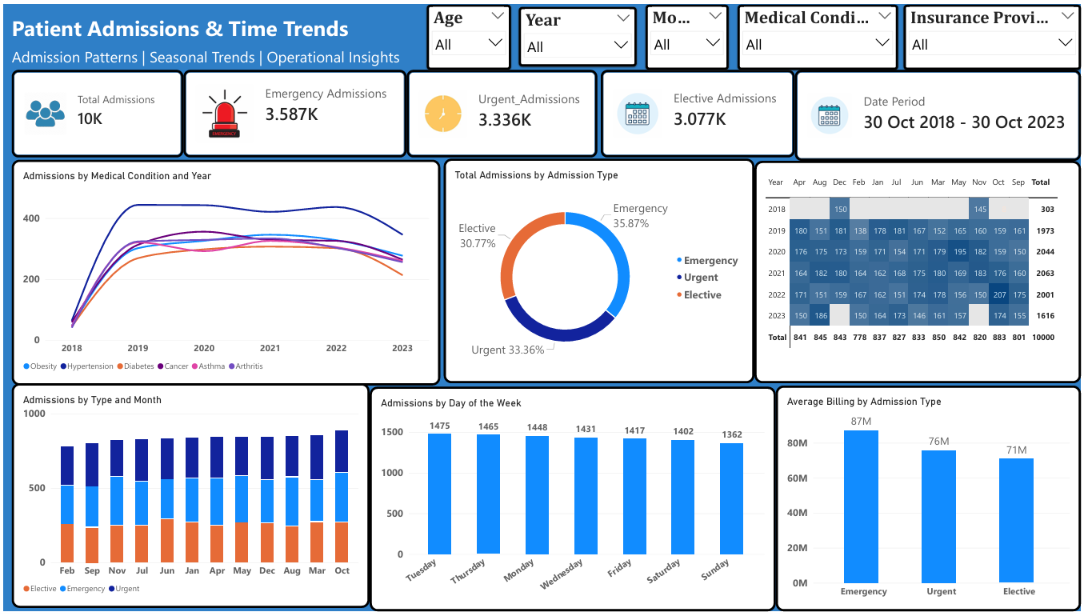

The dashboard page shown, as its layout file describes it:
{"tool":"powerbi","page":{"name":"Patient Admission and Time Trend","canvas":[1920,1080],"ordinal":3},"visuals":[{"type":"cardVisual","fields":{"Data":["Healthcare_Data_v1__1.Total Admissions"]},"box":[14,116,306,156],"z":0},{"type":"cardVisual","fields":{"Data":["Healthcare_Data_v1__1.Urgent_Admissions"]},"box":[718,116,340,156],"z":1000},{"type":"cardVisual","fields":{"Data":["Healthcare_Data_v1__1.Emergency Admissions"]},"box":[320,116,398,156],"z":2000},{"type":"cardVisual","fields":{"Data":["Healthcare_Data_v1__1.Elective Admissions"]},"box":[1064,116,346,156],"z":3000},{"type":"columnChart","title":"Admissions by Type and Month","fields":{"Category":["DateTable.Month"],"Series":["Healthcare_Data_v1__1.Admission Type"],"Y":["Healthcare_Data_v1__1.Total Admissions"]},"box":[14,674,638,400],"z":5000},{"type":"donutChart","fields":{"Category":["Healthcare_Data_v1__1.Admission Type"],"Y":["Healthcare_Data_v1__1.Total Admissions"]},"box":[784,274,554,400],"z":6000},{"type":"clusteredColumnChart","title":"Admissions by Day of the Week","fields":{"Category":["DateTable.Day Name"],"Y":["Healthcare_Data_v1__1.Total Admissions"]},"box":[652,680,724,400],"z":7000},{"type":"pivotTable","fields":{"Columns":["DateTable.Month"],"Rows":["DateTable.Year"],"Values":["Healthcare_Data_v1__1.Total Admissions"]},"box":[1338,278,582,396],"z":8000},{"type":"lineChart","title":"Admissions by Medical Condition and Year","fields":{"Category":["DateTable.Year"],"Series":["Healthcare_Data_v1__1.Medical Condition"],"Y":["Healthcare_Data_v1__1.Total Admissions"]},"box":[14,276,764,402],"z":9000},{"type":"clusteredColumnChart","title":"Average Billing by Admission Type","fields":{"Category":["Healthcare_Data_v1__1.Admission Type"],"Y":["Sum(Healthcare_Data_v1__1. Billing Amount )"]},"box":[1376,678,544,402],"z":10000},{"type":"textbox","box":[14,16,612,58],"z":11000},{"type":"textbox","box":[14,74,704,64],"z":12000},{"type":"slicer","fields":{"Values":["Healthcare_Data_v1__1.Year"]},"box":[918,4,210,106],"z":13000},{"type":"slicer","fields":{"Values":["DateTable.Month"]},"box":[1144,0,148,116],"z":14000},{"type":"slicer","fields":{"Values":["Healthcare_Data_v1__1.Medical Condition"]},"box":[1308,0,286,116],"z":15000},{"type":"slicer","fields":{"Values":["Healthcare_Data_v1__1.Insurance Provider"]},"box":[1604,0,316,116],"z":16000},{"type":"cardVisual","fields":{"Data":["DateTable.Date Period"]},"box":[1410,116,510,162],"z":18000},{"type":"slicer","fields":{"Values":["Healthcare_Data_v1__1.Age Classification"]},"box":[754,0,150,116],"z":18001}]}

Visuals, with their boxes in screenshot pixels (x1, y1, x2, y2), scaled from the page's 1920x1080 canvas onto the 1082x614 screenshot:
cardVisual - Healthcare_Data_v1__1.Total Admissions: [left=8, top=66, right=180, bottom=155]
cardVisual - Healthcare_Data_v1__1.Urgent_Admissions: [left=405, top=66, right=596, bottom=155]
cardVisual - Healthcare_Data_v1__1.Emergency Admissions: [left=180, top=66, right=405, bottom=155]
cardVisual - Healthcare_Data_v1__1.Elective Admissions: [left=600, top=66, right=795, bottom=155]
"Admissions by Type and Month" columnChart: [left=8, top=383, right=367, bottom=611]
donutChart - Healthcare_Data_v1__1.Admission Type x Healthcare_Data_v1__1.Total Admissions: [left=442, top=156, right=754, bottom=383]
"Admissions by Day of the Week" clusteredColumnChart: [left=367, top=387, right=775, bottom=613]
pivotTable - DateTable.Month x DateTable.Year: [left=754, top=158, right=1081, bottom=383]
"Admissions by Medical Condition and Year" lineChart: [left=8, top=157, right=438, bottom=385]
"Average Billing by Admission Type" clusteredColumnChart: [left=775, top=385, right=1081, bottom=613]
textbox: [left=8, top=9, right=353, bottom=42]
textbox: [left=8, top=42, right=405, bottom=78]
slicer - Healthcare_Data_v1__1.Year: [left=517, top=2, right=636, bottom=63]
slicer - DateTable.Month: [left=645, top=0, right=728, bottom=66]
slicer - Healthcare_Data_v1__1.Medical Condition: [left=737, top=0, right=898, bottom=66]
slicer - Healthcare_Data_v1__1.Insurance Provider: [left=904, top=0, right=1081, bottom=66]
cardVisual - DateTable.Date Period: [left=795, top=66, right=1081, bottom=158]
slicer - Healthcare_Data_v1__1.Age Classification: [left=425, top=0, right=509, bottom=66]
